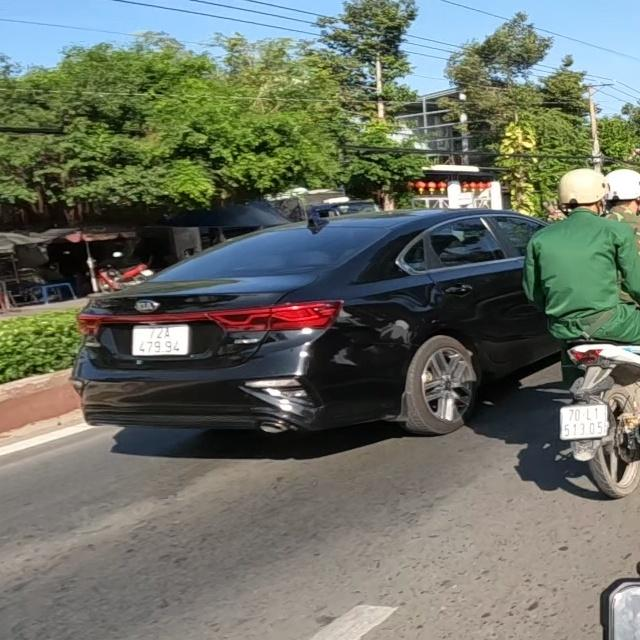license-plate: (556, 401, 612, 442), (130, 324, 191, 358)
